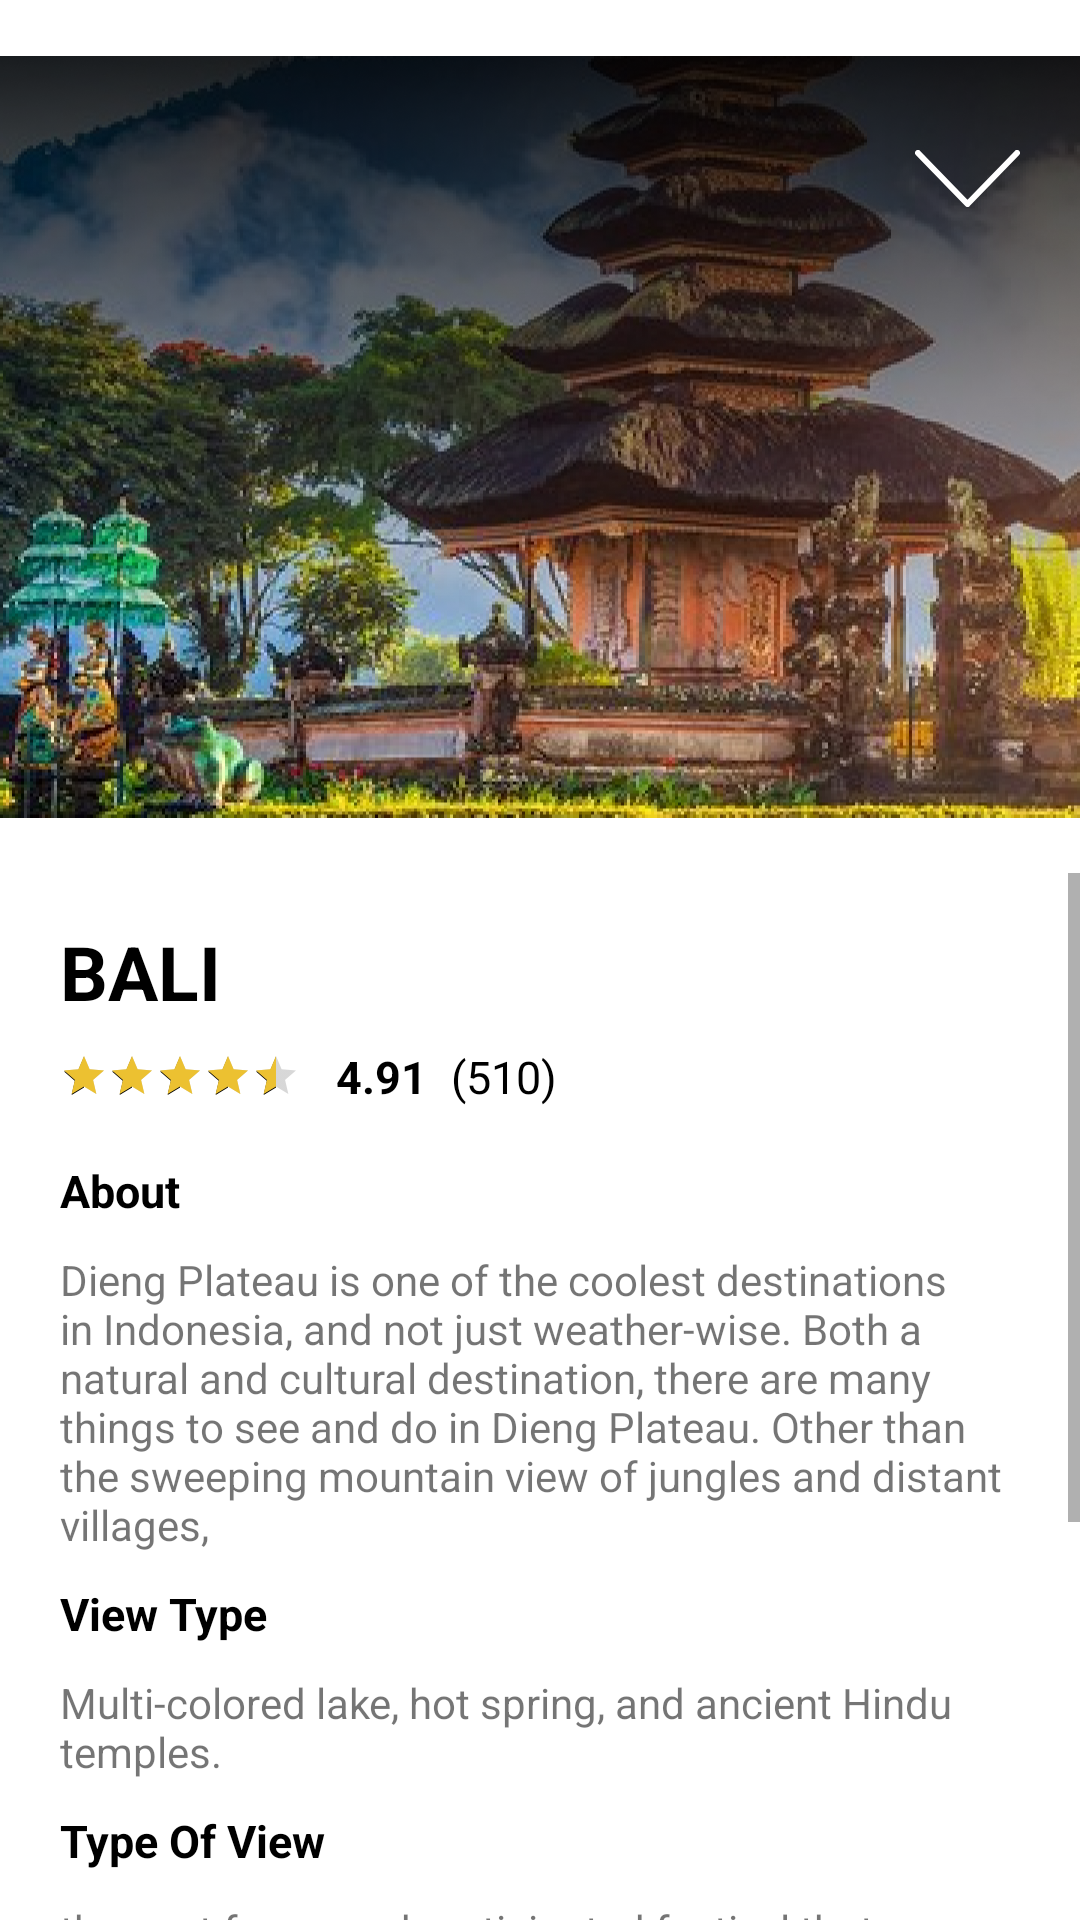

Icons on this 1080x1920 Android screen, each with the point to tap as [x,y]:
bottom arrow: [967,178]
